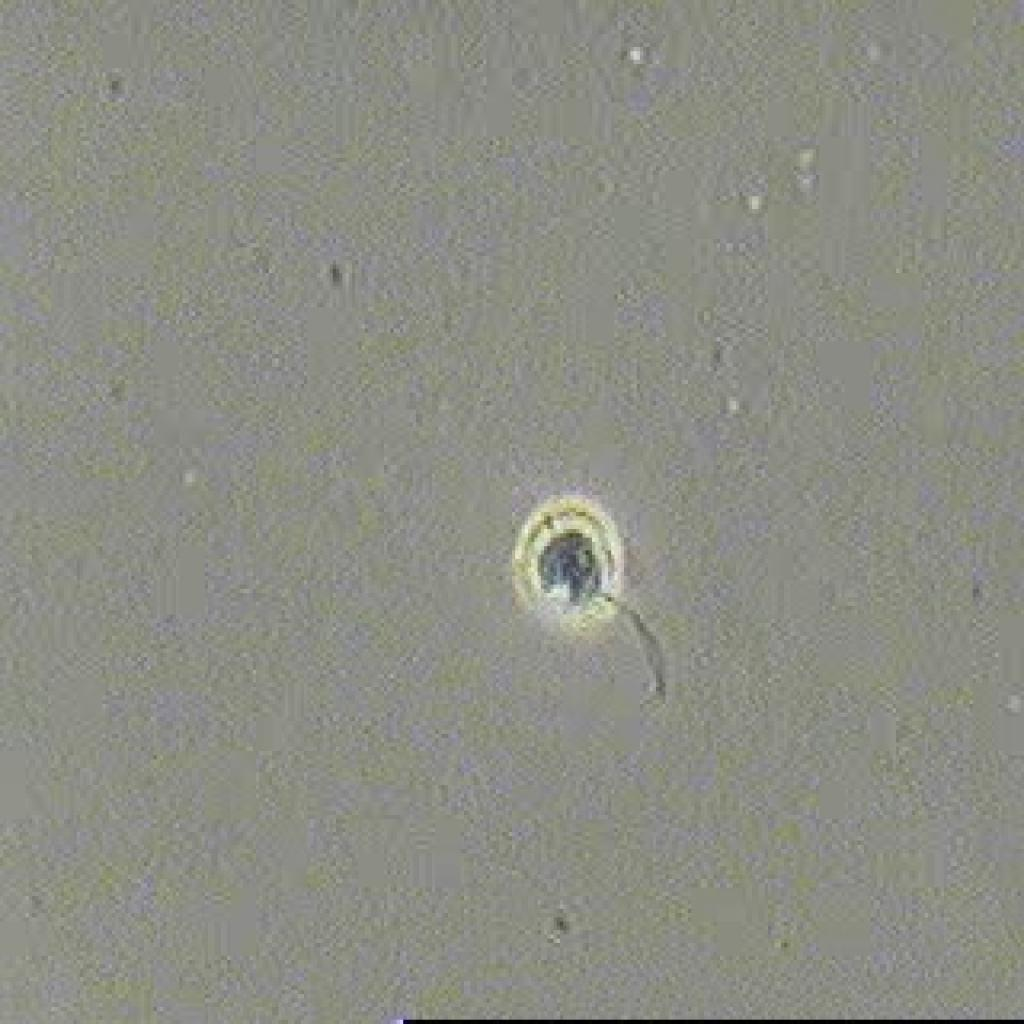Flagellates: (506, 488, 691, 714)
